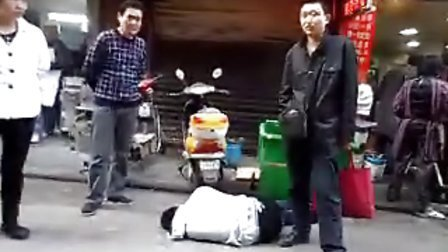fall: (153, 178, 296, 250)
